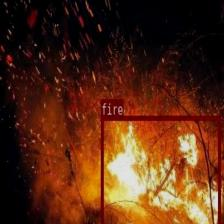fire: (100, 115, 220, 224)
